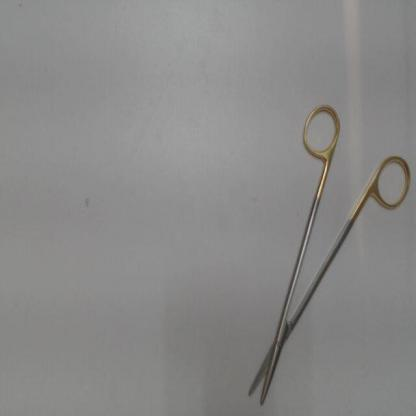7 Metzenbaum Scissors: (244, 100, 414, 411)
